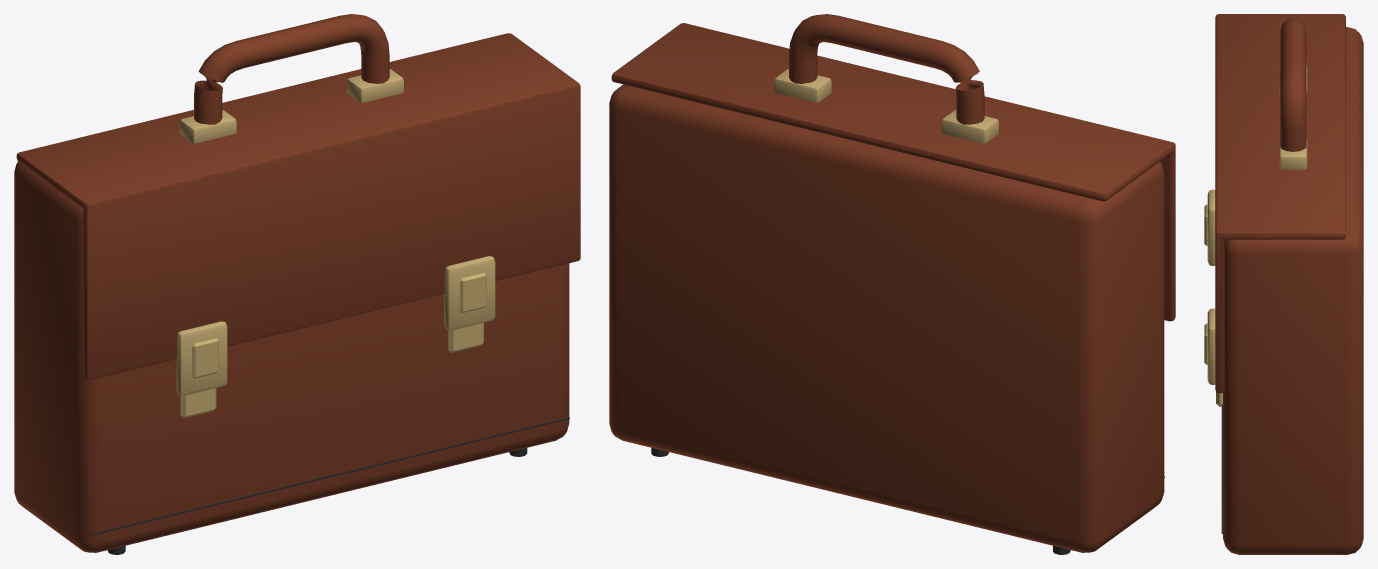
File: Briefcase.fbx
3 renders of one model, left to right at view 1: azimuth 30°, elevation 25°; view 2: azimuth 150°, elevation 25°; view 3: azimuth 270°, elevation 25°, orthographic. The views are drawn at different scales.
Visible parts, largest first — view 1: Briefcase_Mesh; view 2: Briefcase_Mesh; view 3: Briefcase_Mesh.
Part boxes in pixels (<box>): Briefcase_Mesh: <box>14,14,580,554</box>; Briefcase_Mesh: <box>609,14,1175,554</box>; Briefcase_Mesh: <box>1204,14,1363,554</box>.
Bounding box in the file's own units: 0.444 × 0.389 × 0.136.
